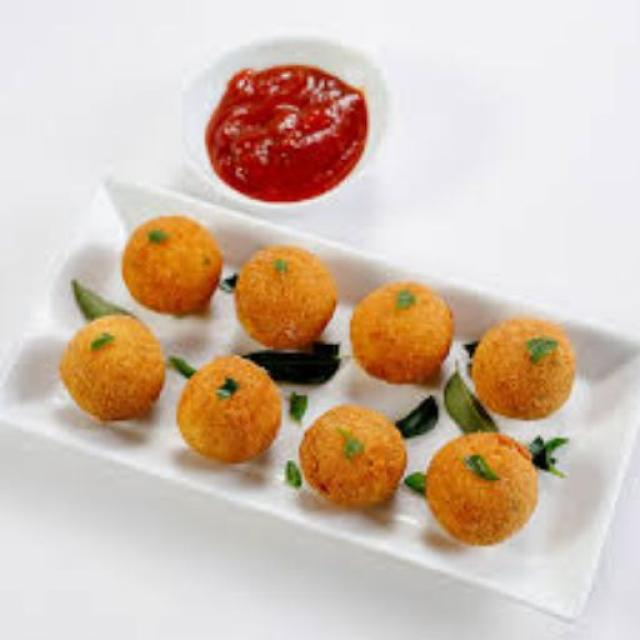Cutlet: (112, 222, 228, 316), (239, 243, 333, 351), (429, 441, 528, 533), (70, 320, 161, 420), (353, 292, 450, 381), (308, 414, 396, 512), (184, 368, 275, 459), (485, 329, 569, 419)
